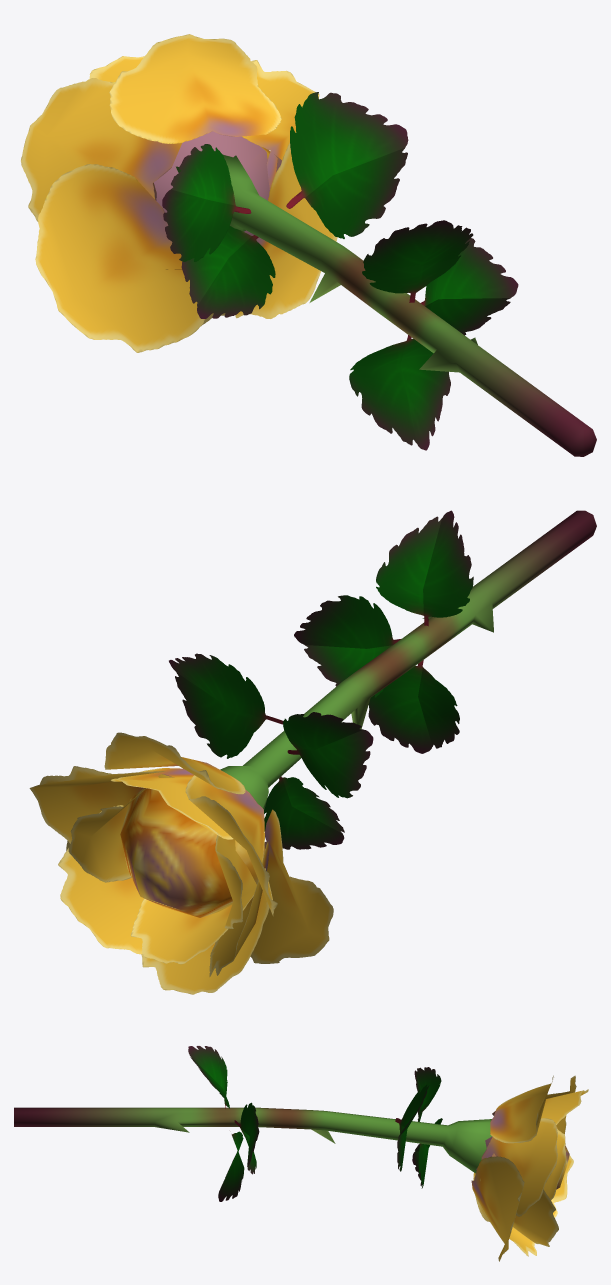
File: SM_Rose_Yellow_Open.fbx
The picture shows the model from 3 angles, top to bottom: view 1: azimuth 30°, elevation 25°; view 2: azimuth 150°, elevation 25°; view 3: azimuth 270°, elevation 25°; orthographic projection. The views are drawn at different scales.
Parts seen in each view (by area): view 1: Rose_Yellow_Open; view 2: Rose_Yellow_Open; view 3: Rose_Yellow_Open.
Part boxes in pixels (box(x1,y1,x2,y2)): Rose_Yellow_Open: box(21, 34, 596, 456); Rose_Yellow_Open: box(29, 510, 596, 994); Rose_Yellow_Open: box(14, 1046, 588, 1261).
Bounding box in the file's own units: 50.21 × 50.94 × 127.
